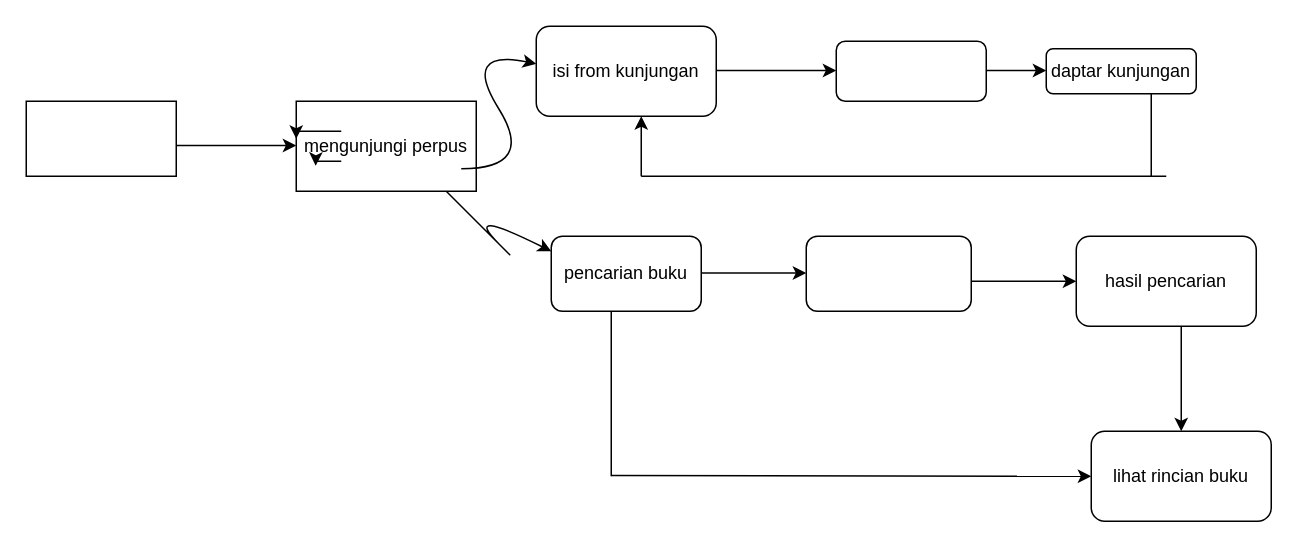
Some shapes in this 1298 by 548 pixel diagram are drawn without their labels. The shapes that lost their labels are listed below. From the top down, each one's centre as x and y in pixels, then its label:
At (910,70): "kirim".
At (100,138): "user".
At (888,273): "masukan kata kunci judul".
